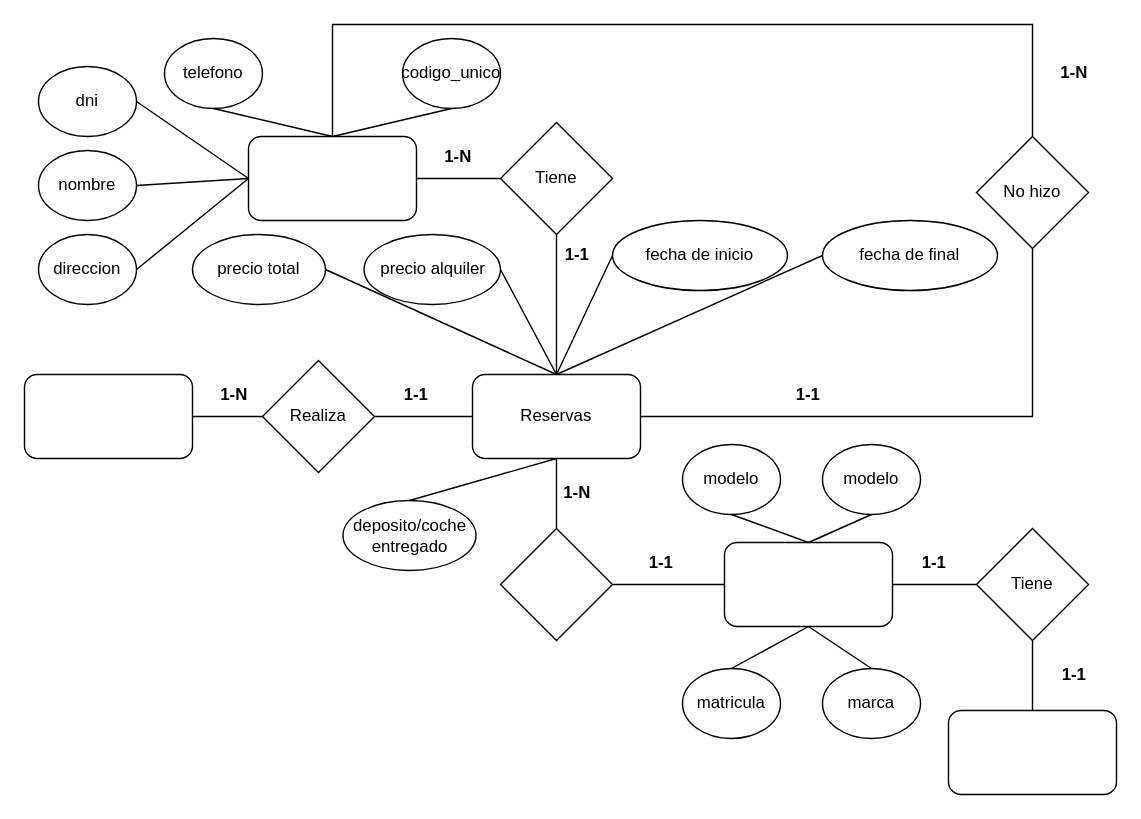
This 1141x819 diagram has some shape labels left out. The shapes that lost their labels are listed below. From the top down, each one's centre as x and y in pixels, then its label:
At point (331, 177): "Cliente".
At point (107, 415): "Agencia".
At point (555, 583): "Involucra".
At point (807, 583): "Coches".
At point (1031, 751): "Garaje".
